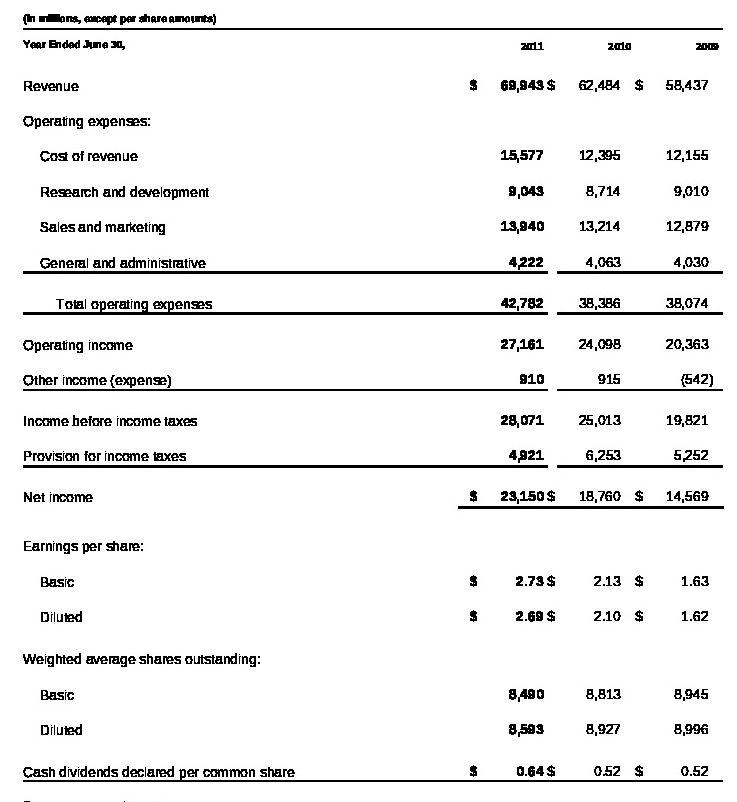table: (0, 0, 737, 802)
